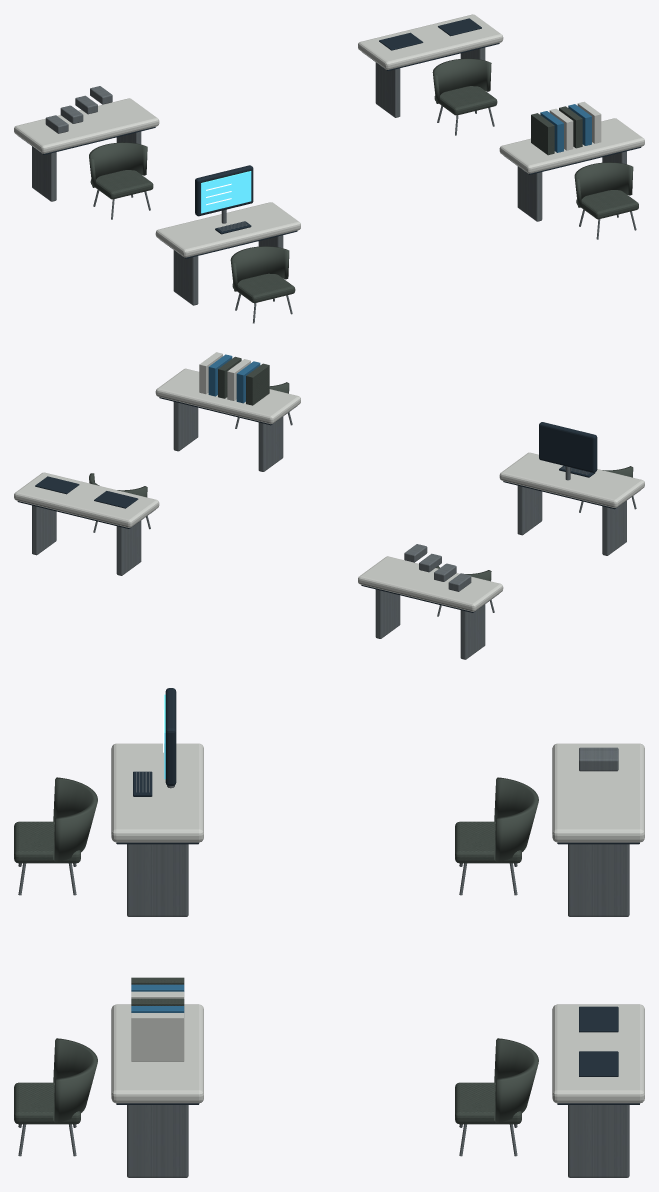
File: experience.glb
The picture shows the model from 3 angles, top to bottom: view 1: azimuth 30°, elevation 25°; view 2: azimuth 150°, elevation 25°; view 3: azimuth 270°, elevation 25°; orthographic projection. The views are drawn at different scales.
Visible parts, largest first — view 1: Static_experience; view 2: Static_experience; view 3: Static_experience.
Part boxes in pixels (x1,y1,x2,y2): Static_experience: [14, 14, 644, 323]; Static_experience: [14, 352, 644, 659]; Static_experience: [14, 688, 644, 1177].
Size of the model in its own units: 9.4 by 2.19 by 7.15.
7 materials, 2 textured.
